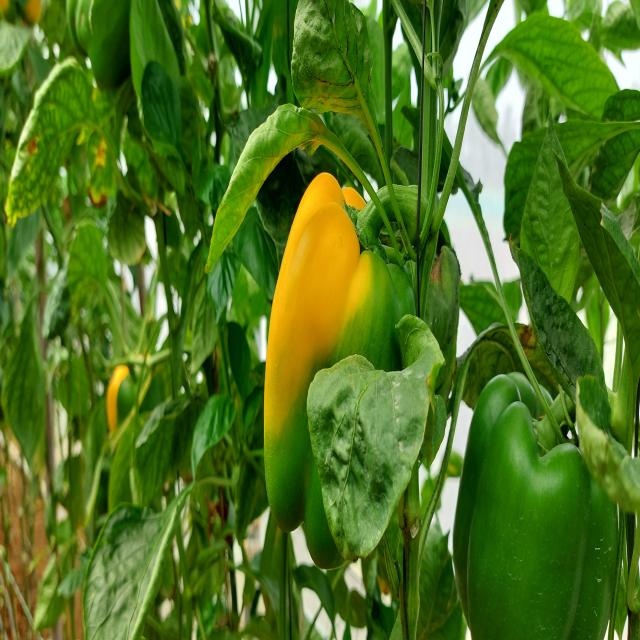Green--Not-ready-to-harvest: (465, 330, 619, 637)
GreenishYellow--Can-be-Harvested: (247, 153, 426, 536)
